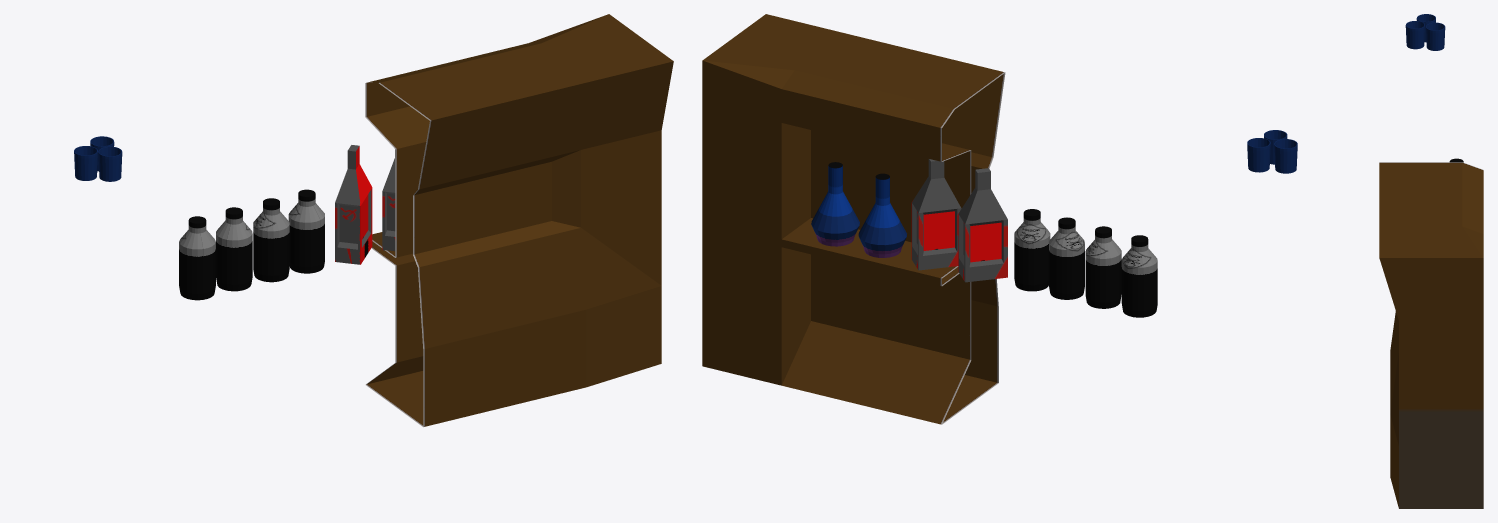
Rendered from LowBar2.obj.
The picture shows the model from 3 angles, left to right: view 1: azimuth 30°, elevation 25°; view 2: azimuth 150°, elevation 25°; view 3: azimuth 270°, elevation 25°; orthographic projection. The views are drawn at different scales.
Parts seen in each view (by area): view 1: pCube1, pCube4, pCylinder12, pCylinder11, pCylinder10, pCylinder3, pCube3, pCylinder6, pCylinder7; view 2: pCube1, pCube4, pCube3, pCylinder12, pCylinder11, pCylinder10, pCylinder3, pCylinder1, pCylinder9, pCylinder7, pCylinder8; view 3: pCube1, pCylinder8, pCylinder6, pCylinder7.
Boxes of the visible parts, <box> form: pCube1: <box>365,14,673,427</box>; pCube4: <box>335,145,372,264</box>; pCylinder12: <box>179,216,215,300</box>; pCylinder11: <box>216,207,252,291</box>; pCylinder10: <box>253,198,289,282</box>; pCylinder3: <box>288,189,324,273</box>; pCube3: <box>382,149,395,251</box>; pCylinder6: <box>98,146,122,181</box>; pCylinder7: <box>74,146,97,180</box>; pCube1: <box>702,14,1005,424</box>; pCube4: <box>958,168,1007,282</box>; pCube3: <box>911,159,961,270</box>; pCylinder12: <box>1121,235,1157,317</box>; pCylinder11: <box>1085,226,1121,308</box>; pCylinder10: <box>1049,217,1084,299</box>; pCylinder3: <box>1014,209,1050,291</box>; pCylinder1: <box>811,162,859,246</box>; pCylinder9: <box>858,173,906,257</box>; pCylinder7: <box>1274,139,1297,173</box>; pCylinder8: <box>1247,138,1270,172</box>; pCube1: <box>1379,162,1483,508</box>; pCylinder8: <box>1426,22,1445,50</box>; pCylinder6: <box>1405,21,1424,49</box>; pCylinder7: <box>1416,14,1435,42</box>.
Size of the model in its own units: 2 by 1.08 by 0.3766.
5 materials, 5 textured.
